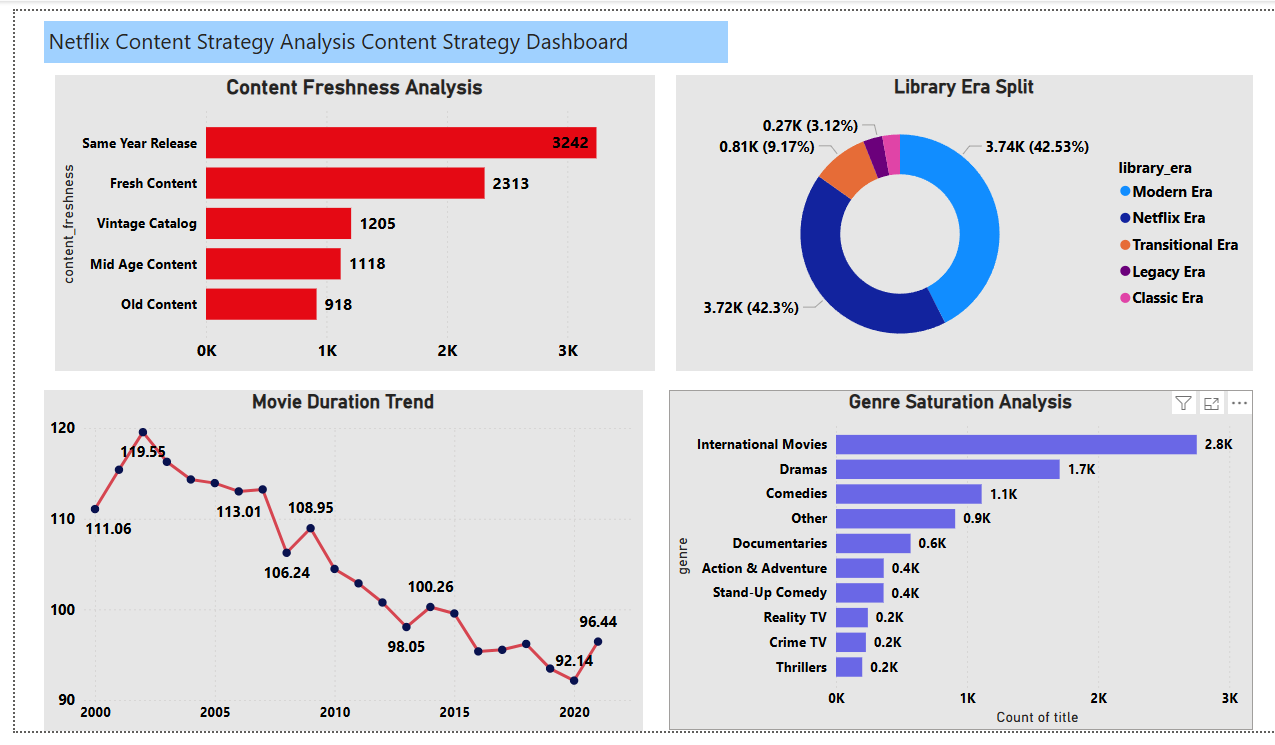

Layout of this report page (visuals, bound fields, positions):
{"tool":"powerbi","page":{"name":"Content Strategy","canvas":[1280,720],"ordinal":1},"visuals":[{"type":"clusteredBarChart","title":"Content Freshness Analysis","fields":{"Category":["netflix_cleaned.content_freshness"],"Y":["CountNonNull(netflix_cleaned.title)"]},"box":[40.3,64.5,600,295.5],"z":2},{"type":"donutChart","title":"Library Era Split","fields":{"Category":["netflix_cleaned.library_era"],"Y":["CountNonNull(netflix_cleaned.title)"]},"box":[660.9,64.5,576.7,295.5],"z":3},{"type":"lineChart","title":"Movie Duration Trend","fields":{"Category":["netflix_cleaned.release_year"],"Y":["Avg(netflix_cleaned.duration_value)"]},"box":[29,378.7,599.3,341.5],"z":4},{"type":"clusteredBarChart","title":"Genre Saturation Analysis","fields":{"Category":["netflix_cleaned.genre"],"Y":["CountNonNull(netflix_cleaned.title)"]},"box":[653.7,378.8,583.9,340.3],"z":5},{"type":"textbox","box":[28.7,9.9,684.2,42.1],"z":6}]}

Visuals, with their boxes on the page's 1280x720 design canvas (x1, y1, x2, y2). These are canvas units, not pixel positions in the 1275x745 screenshot, which may show the page scaled, cropped or inside an application window:
"Content Freshness Analysis" clusteredBarChart: 40,64,640,360
"Library Era Split" donutChart: 661,64,1238,360
"Movie Duration Trend" lineChart: 29,379,628,720
"Genre Saturation Analysis" clusteredBarChart: 654,379,1238,719
textbox: 29,10,713,52
